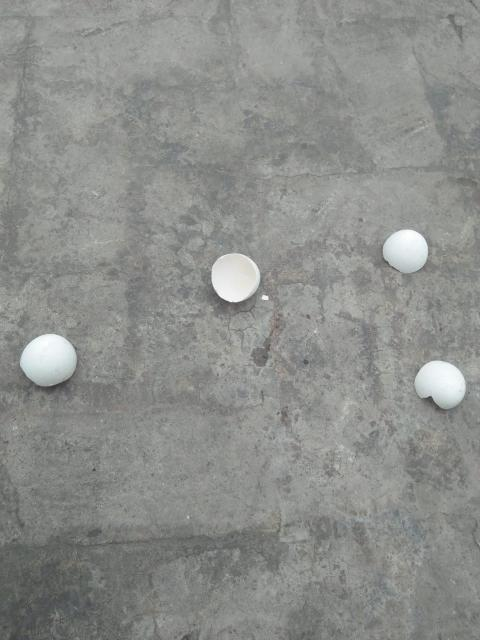Roto: (19, 332, 77, 387), (414, 360, 466, 410), (211, 253, 260, 303), (381, 228, 428, 274)
